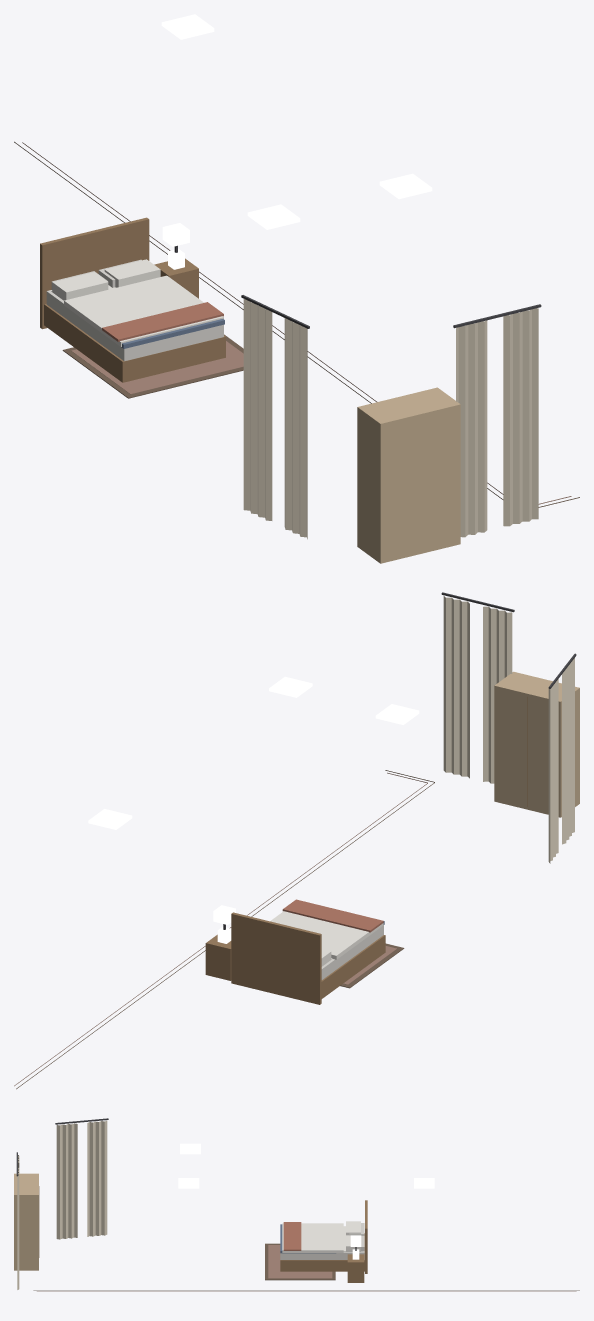
The model's file is fine-s2.glb.
3 renders of one model, top to bottom at view 1: azimuth 30°, elevation 25°; view 2: azimuth 150°, elevation 25°; view 3: azimuth 270°, elevation 25°, orthographic. The views are drawn at different scales.
Parts seen in each view (by area): view 1: soft-s2, dresser.001, bed-frame.001, nightstand.001, ceiling-lamp.006, ceiling-lamp.008, ceiling-lamp.007; view 2: soft-s2, bed-frame.001, dresser.001, nightstand.001; view 3: soft-s2, dresser.001, bed-frame.001, nightstand.001.
Part boxes in pixels (x1=…): soft-s2: x1=14, y1=141, x2=579, y2=539; dresser.001: x1=357, y1=387, x2=460, y2=563; bed-frame.001: x1=40, y1=217, x2=225, y2=382; nightstand.001: x1=154, y1=249, x2=198, y2=298; ceiling-lamp.006: x1=161, y1=14, x2=214, y2=39; ceiling-lamp.008: x1=247, y1=204, x2=300, y2=229; ceiling-lamp.007: x1=379, y1=173, x2=432, y2=199; soft-s2: x1=14, y1=592, x2=576, y2=1089; bed-frame.001: x1=231, y1=912, x2=385, y2=1004; dresser.001: x1=494, y1=671, x2=579, y2=817; nightstand.001: x1=205, y1=927, x2=231, y2=980; soft-s2: x1=16, y1=1118, x2=579, y2=1291; dresser.001: x1=14, y1=1173, x2=39, y2=1270; bed-frame.001: x1=280, y1=1200, x2=367, y2=1273; nightstand.001: x1=347, y1=1249, x2=364, y2=1282.
Bounding box in the file's own units: 4.03 × 3.11 × 13.57.
